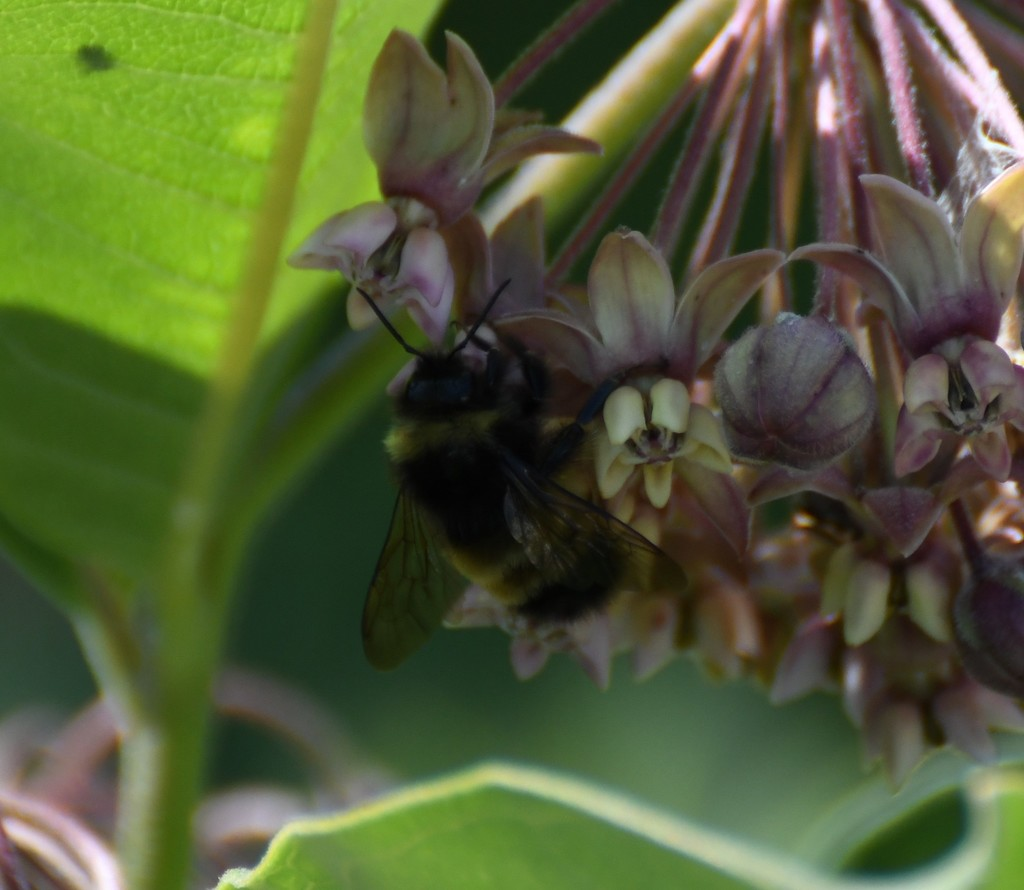bumblebee: (355, 279, 694, 672)
